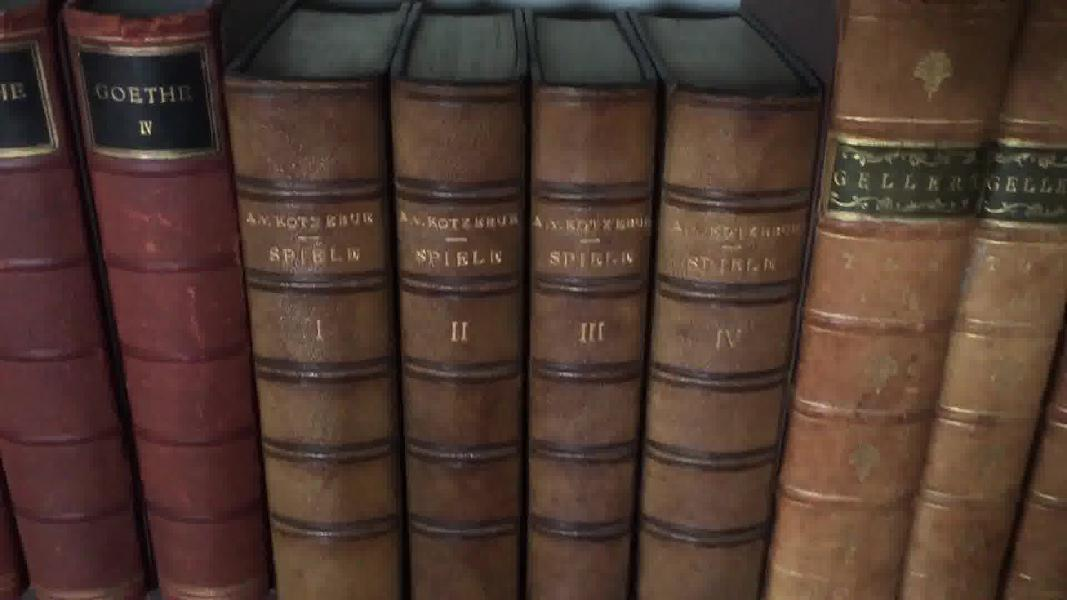Aa6-14_17: (215, 67, 824, 600)
